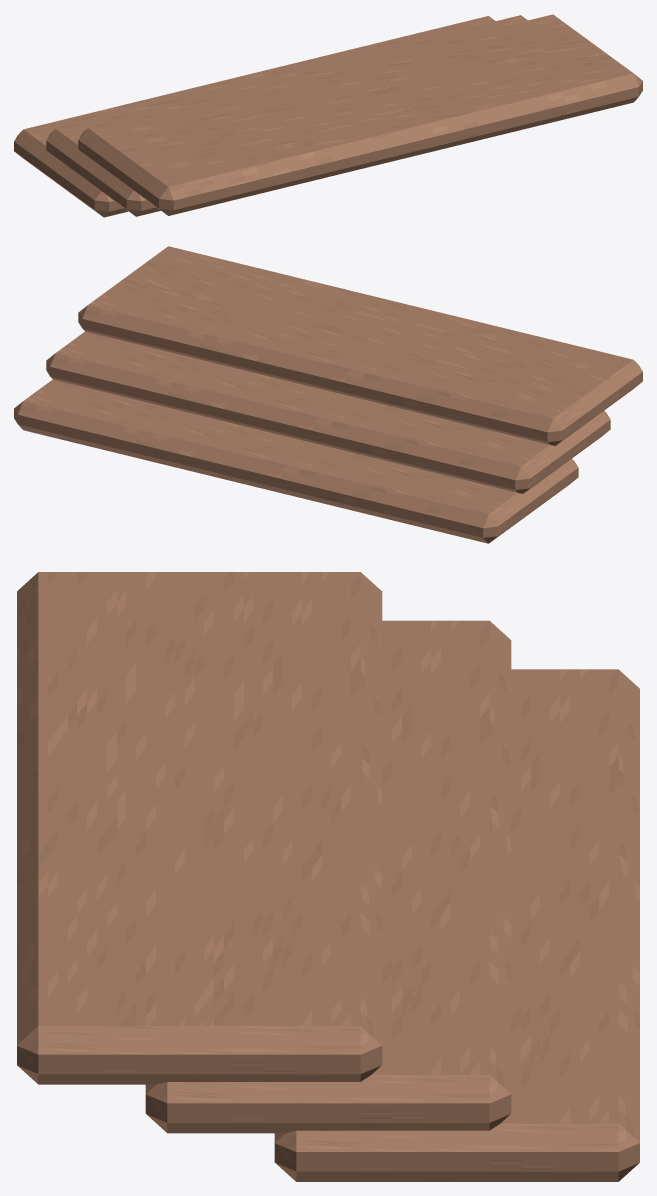
The model's file is lunchmeat.glb.
3 views of the same model, one above another, from view 1: azimuth 30°, elevation 25°; view 2: azimuth 150°, elevation 25°; view 3: azimuth 270°, elevation 25° (orthographic). The views are drawn at different scales.
Parts seen in each view (by area): view 1: block_cut slice (×3); view 2: block_cut slice (×3); view 3: block_cut slice (×3).
Boxes of the visible parts, x1=… form: block_cut slice (×3): x1=14, y1=14, x2=642, y2=217; block_cut slice (×3): x1=14, y1=246, x2=642, y2=543; block_cut slice (×3): x1=17, y1=572, x2=639, y2=1181.
Bounding box in the file's own units: 0.104 × 0.016 × 0.058.
Materials: 1 (1 with a texture image).
